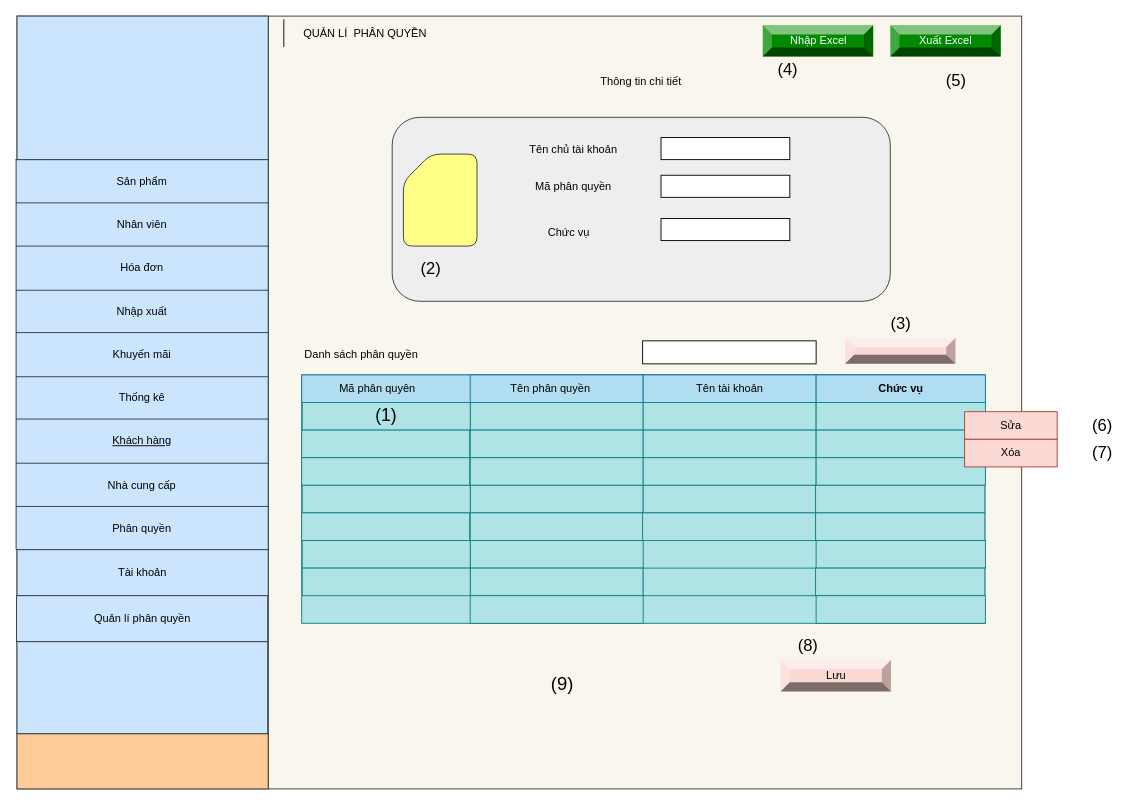
The diagram is 1146 pixels wide and 806 high, and some of its shapes have lost their labels. The shapes that lost their labels are listed below. From the top down, each one's centre as x and y in pixels, then its label:
[142,87]: QUẢN LÍ MINI SMART
[439,199]: ảnh
[729,352]: Nhập mã phân quyền
[899,350]: Tìm
[142,761]: Đăng xuất
